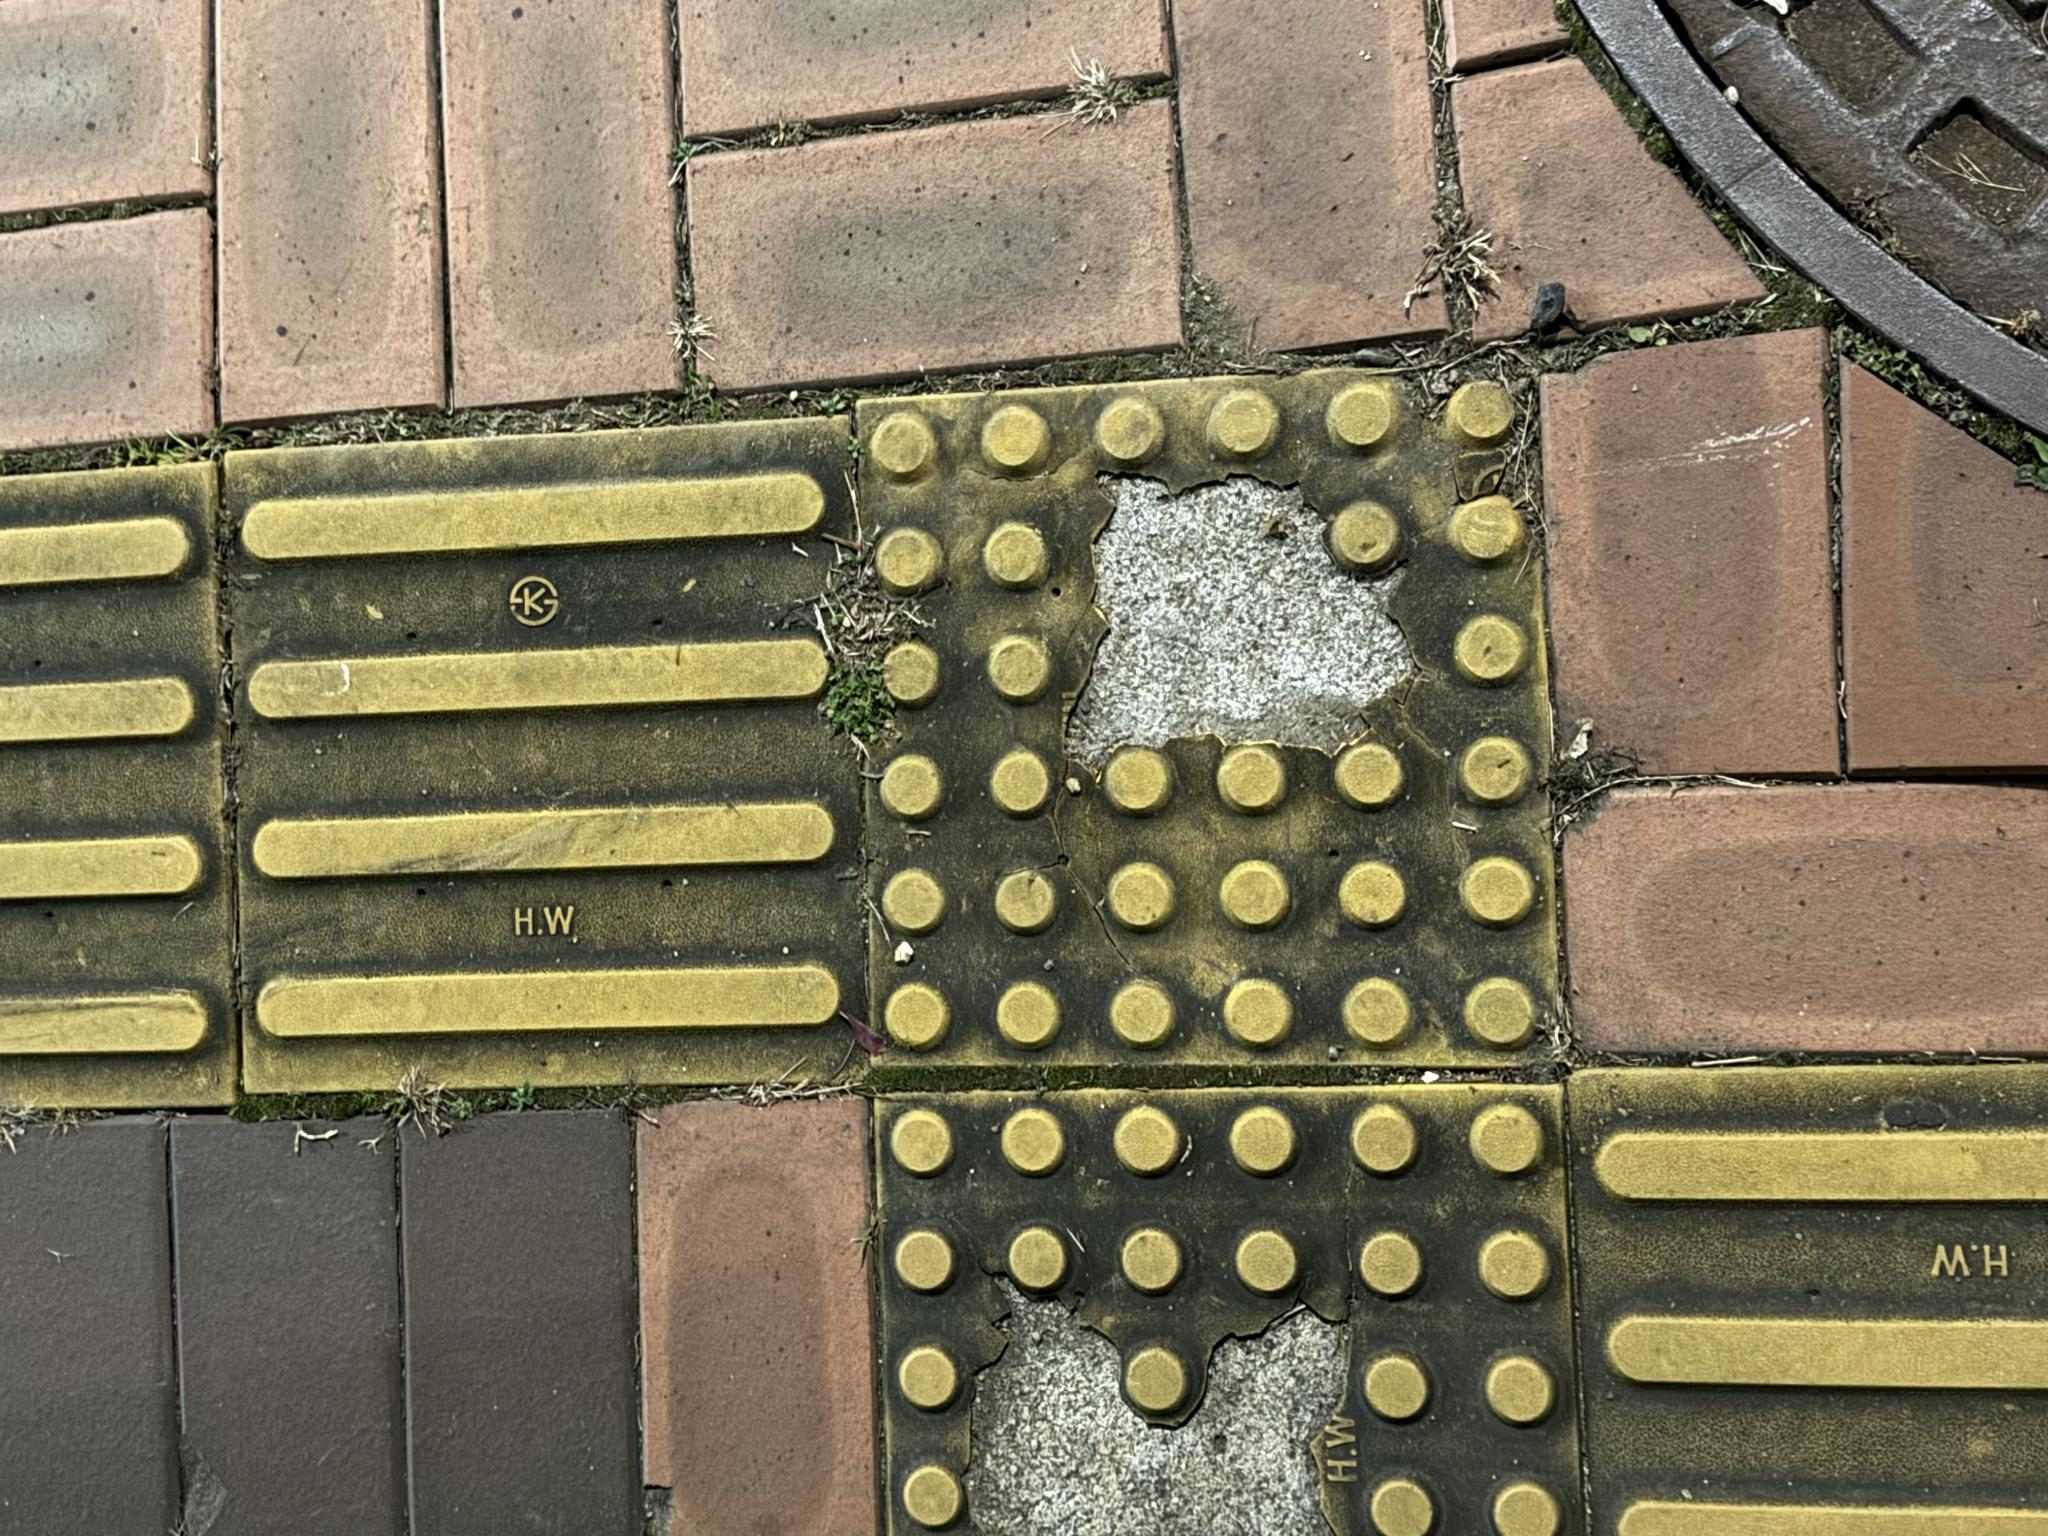Stop block broken: (476, 862, 1179, 1536)
Straight block normal: (453, 227, 1118, 854)
